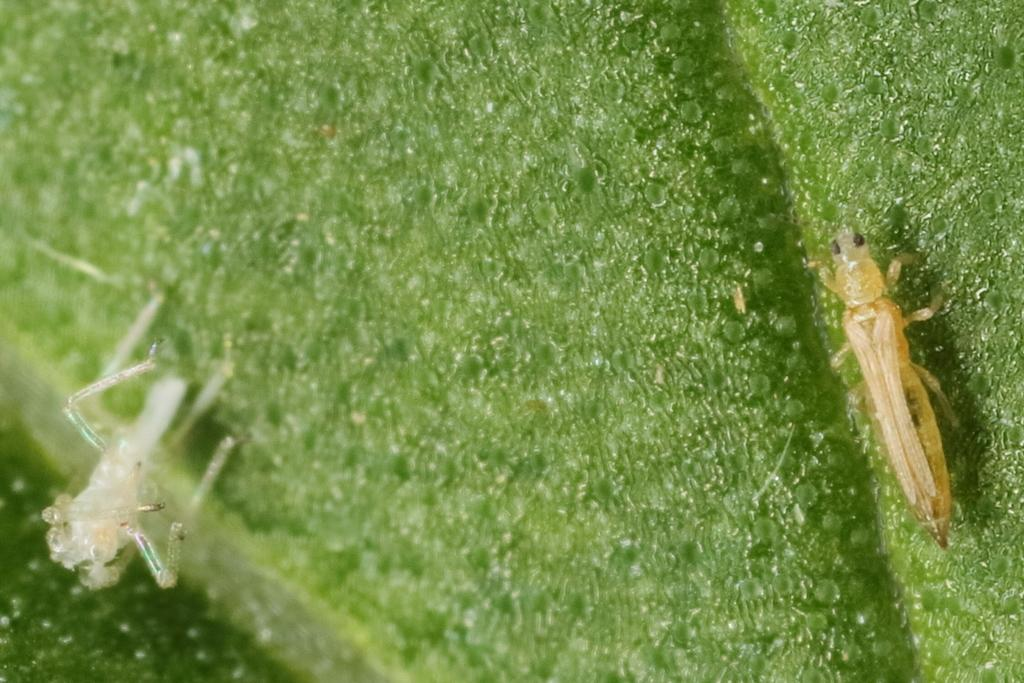tiny_pests: (777, 189, 1024, 559)
